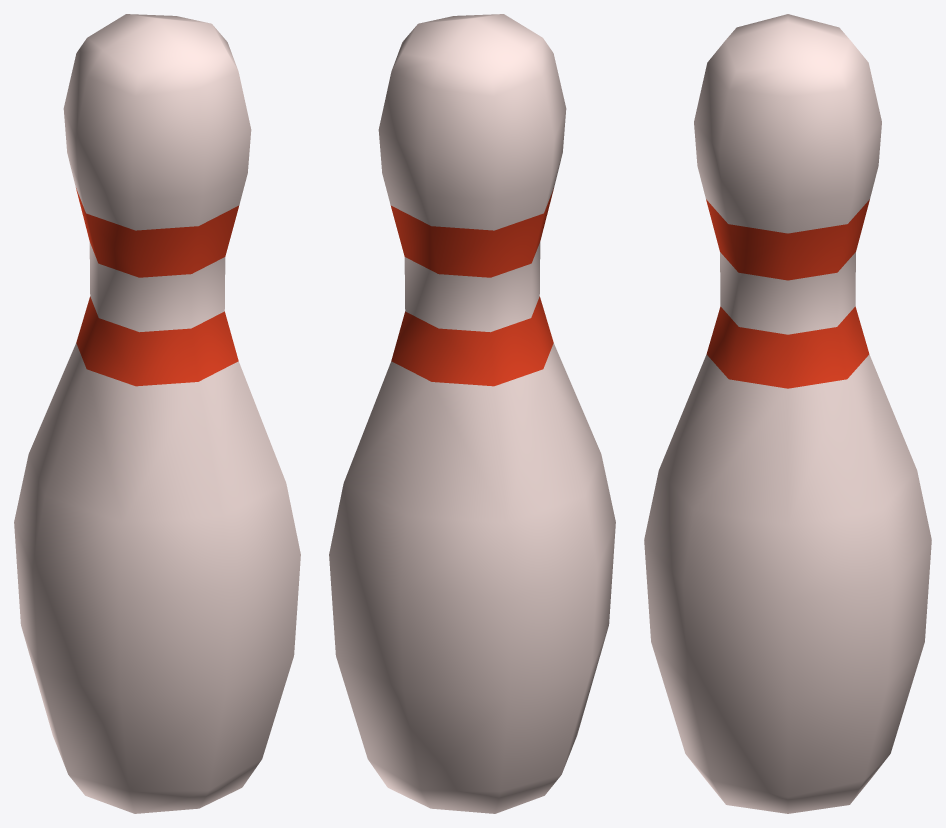
File: bowlingPin.glb
The picture shows the model from 3 angles, left to right: view 1: azimuth 30°, elevation 25°; view 2: azimuth 150°, elevation 25°; view 3: azimuth 270°, elevation 25°; orthographic projection.
Parts seen in each view (by area): view 1: refPinPhysicalDynamic; view 2: refPinPhysicalDynamic; view 3: refPinPhysicalDynamic.
Part boxes in pixels (<box>): refPinPhysicalDynamic: <box>14,14,300,813</box>; refPinPhysicalDynamic: <box>329,14,615,813</box>; refPinPhysicalDynamic: <box>644,14,931,813</box>.
Size of the model in its own units: 1.02 by 2.97 by 1.02.
1 material, 1 textured.
